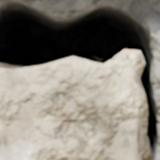brick: (0, 51, 152, 159)
crack: (0, 0, 159, 159)
